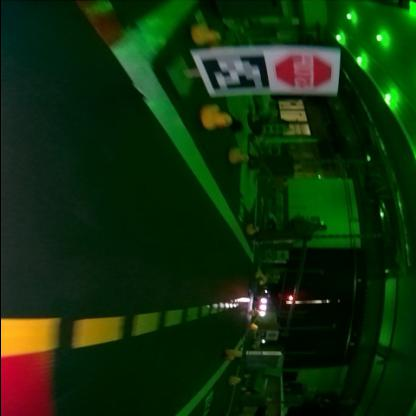Duckie: (201, 108, 232, 130), (191, 29, 221, 45), (228, 148, 249, 164), (248, 227, 260, 235), (231, 377, 240, 385)
QR code: (197, 51, 268, 95)
Stop sign: (272, 54, 334, 94)
Traffic light: (288, 296, 294, 302)
